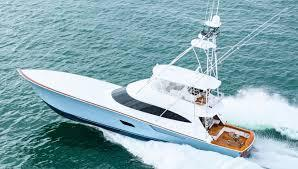fishing boat: (16, 1, 258, 160)
